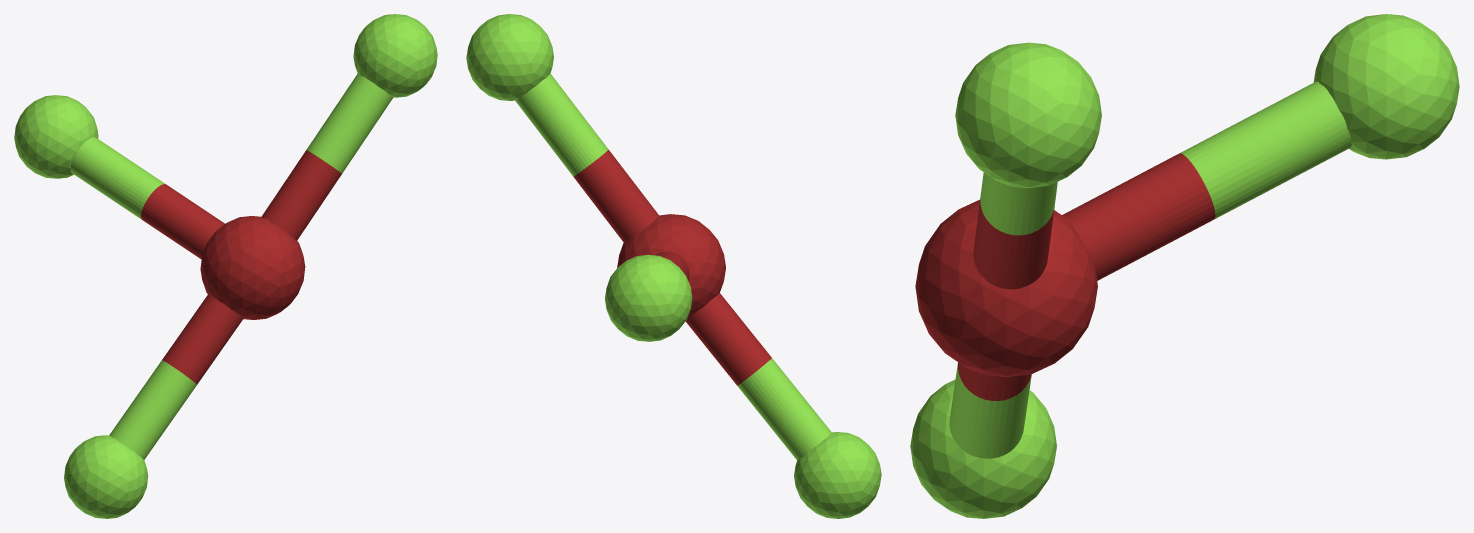
File: BrF3.gltf
3 views of the same model, side by side, from view 1: azimuth 30°, elevation 25°; view 2: azimuth 150°, elevation 25°; view 3: azimuth 270°, elevation 25° (orthographic). The views are drawn at different scales.
Visible parts, largest first — view 1: Shape_IndexedFaceSet.001, Shape_IndexedFaceSet.003, Shape_IndexedFaceSet, Shape_IndexedFaceSet.002, Shape_IndexedFaceSet.011, Shape_IndexedFaceSet.006, Shape_IndexedFaceSet.009, Shape_IndexedFaceSet.013, Shape_IndexedFaceSet.004, Shape_IndexedFaceSet.008; view 2: Shape_IndexedFaceSet.002, Shape_IndexedFaceSet, Shape_IndexedFaceSet.003, Shape_IndexedFaceSet.001, Shape_IndexedFaceSet.006, Shape_IndexedFaceSet.011, Shape_IndexedFaceSet.013, Shape_IndexedFaceSet.004; view 3: Shape_IndexedFaceSet.001, Shape_IndexedFaceSet, Shape_IndexedFaceSet.002, Shape_IndexedFaceSet.009, Shape_IndexedFaceSet.003, Shape_IndexedFaceSet.008, Shape_IndexedFaceSet.006, Shape_IndexedFaceSet.013, Shape_IndexedFaceSet.011, Shape_IndexedFaceSet.004.
Boxes of the visible parts, x1,y1,x2,y2 form: Shape_IndexedFaceSet.001: [200, 216, 305, 319]; Shape_IndexedFaceSet.003: [64, 435, 148, 518]; Shape_IndexedFaceSet: [353, 14, 437, 97]; Shape_IndexedFaceSet.002: [14, 95, 98, 178]; Shape_IndexedFaceSet.011: [306, 73, 393, 173]; Shape_IndexedFaceSet.006: [109, 360, 196, 459]; Shape_IndexedFaceSet.009: [70, 137, 164, 219]; Shape_IndexedFaceSet.013: [261, 150, 341, 240]; Shape_IndexedFaceSet.004: [162, 294, 242, 384]; Shape_IndexedFaceSet.008: [141, 184, 224, 259]; Shape_IndexedFaceSet.002: [605, 254, 692, 341]; Shape_IndexedFaceSet: [466, 14, 553, 100]; Shape_IndexedFaceSet.003: [794, 432, 881, 518]; Shape_IndexedFaceSet.001: [617, 214, 725, 318]; Shape_IndexedFaceSet.006: [737, 358, 831, 460]; Shape_IndexedFaceSet.011: [515, 73, 608, 176]; Shape_IndexedFaceSet.013: [573, 149, 659, 242]; Shape_IndexedFaceSet.004: [685, 293, 771, 385]; Shape_IndexedFaceSet.001: [915, 199, 1097, 376]; Shape_IndexedFaceSet: [955, 42, 1101, 188]; Shape_IndexedFaceSet.002: [1313, 14, 1459, 159]; Shape_IndexedFaceSet.009: [1180, 81, 1351, 219]; Shape_IndexedFaceSet.003: [910, 379, 1056, 518]; Shape_IndexedFaceSet.008: [1062, 153, 1215, 280]; Shape_IndexedFaceSet.006: [949, 363, 1031, 458]; Shape_IndexedFaceSet.013: [973, 197, 1054, 289]; Shape_IndexedFaceSet.011: [980, 172, 1057, 235]; Shape_IndexedFaceSet.004: [958, 362, 1031, 401].
Size of the model in its own units: 0.6219 by 0.656 by 0.4535.
